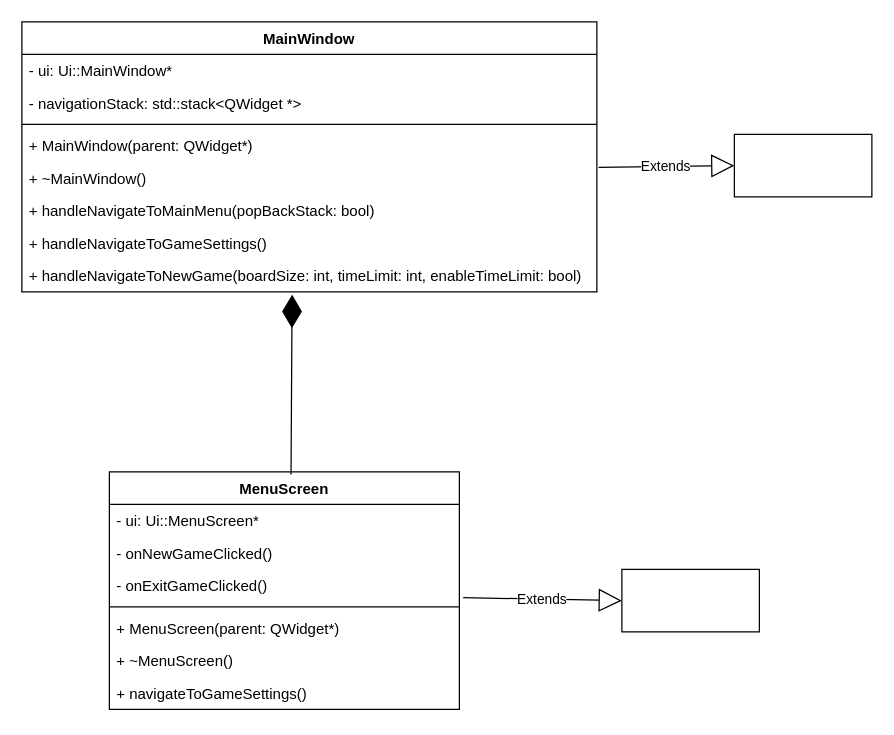
The diagram is 894 pixels wide and 735 high, and some of its shapes have lost their labels. Each missing label, with the centre of its shape:
"«abstract class» QMainWindow" goes at pixel 802 165.
"«abstract class» QWidget" goes at pixel 690 600.
